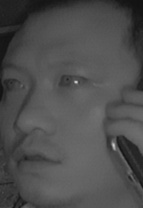eye: (57, 70, 89, 91), (1, 75, 29, 96)
mouth: (13, 140, 66, 175)
